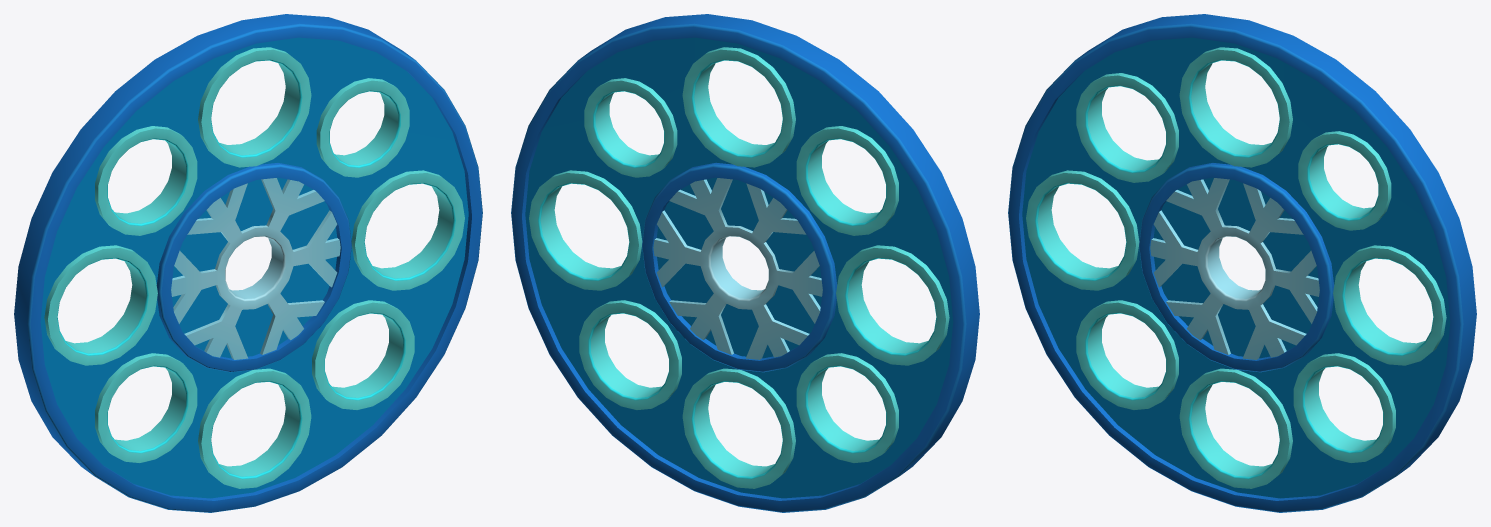
File: obstacle_18_001.fbx
3 views of the same model, side by side, from view 1: azimuth 30°, elevation 25°; view 2: azimuth 150°, elevation 25°; view 3: azimuth 330°, elevation 25° (orthographic).
Visible parts, largest first — view 1: obstacle_18_001; view 2: obstacle_18_001; view 3: obstacle_18_001.
Part boxes in pixels (x1,y1,x2,y2): obstacle_18_001: [14, 14, 482, 512]; obstacle_18_001: [511, 14, 979, 512]; obstacle_18_001: [1008, 14, 1476, 512].
Size of the model in its own units: 1337 by 81.76 by 1337.
